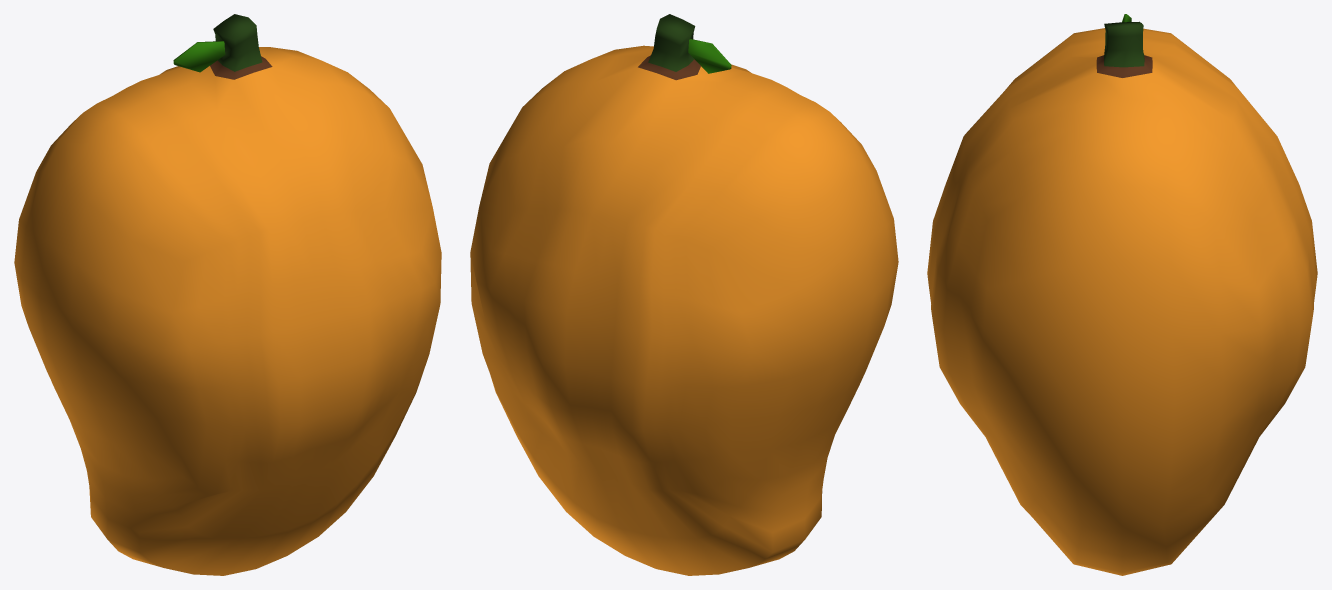
The model's file is Manga.fbx.
3 views of the same model, side by side, from view 1: azimuth 30°, elevation 25°; view 2: azimuth 150°, elevation 25°; view 3: azimuth 270°, elevation 25° (orthographic).
Parts seen in each view (by area): view 1: Cube; view 2: Cube; view 3: Cube.
Part boxes in pixels (x1,y1,x2,y2): Cube: (14,14,441,575); Cube: (470,14,898,575); Cube: (927,14,1317,575).
Size of the model in its own units: 391 by 525 by 342.
